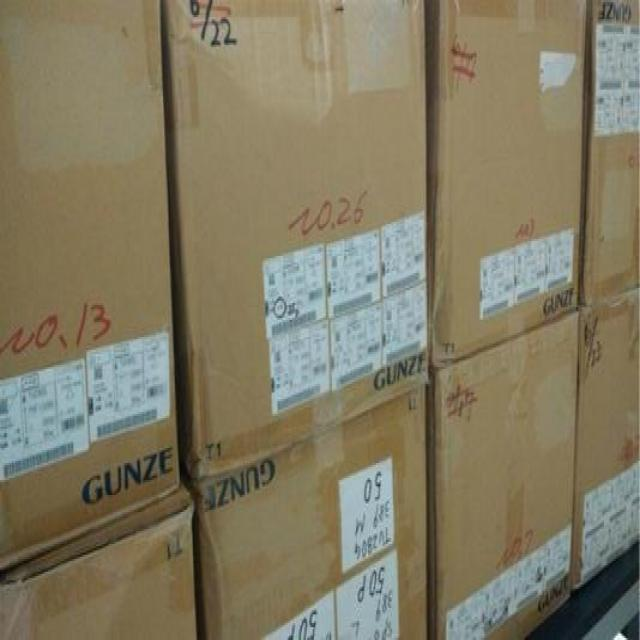box: (162, 0, 434, 491), (0, 0, 181, 586), (187, 383, 429, 640), (423, 0, 589, 372), (429, 309, 574, 640), (573, 0, 640, 309), (573, 282, 640, 589)
